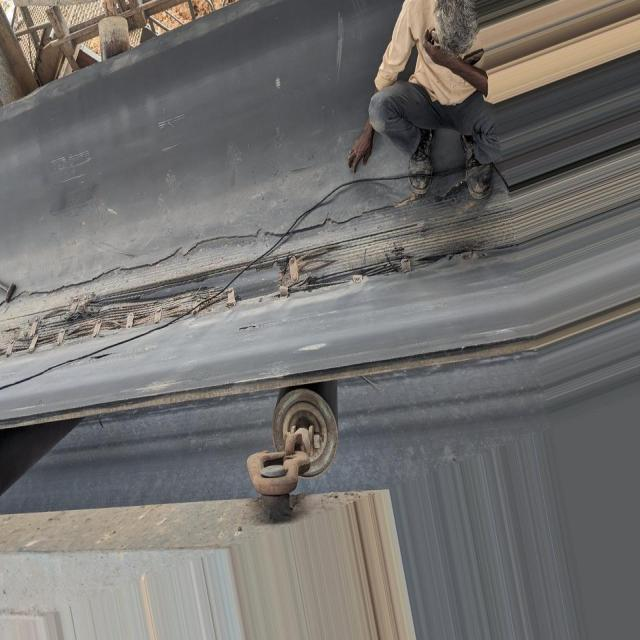Human: (348, 0, 499, 203)
Roller: (0, 420, 80, 497), (278, 387, 339, 478), (102, 15, 129, 57)
Tear: (2, 205, 454, 357), (133, 263, 290, 300)
